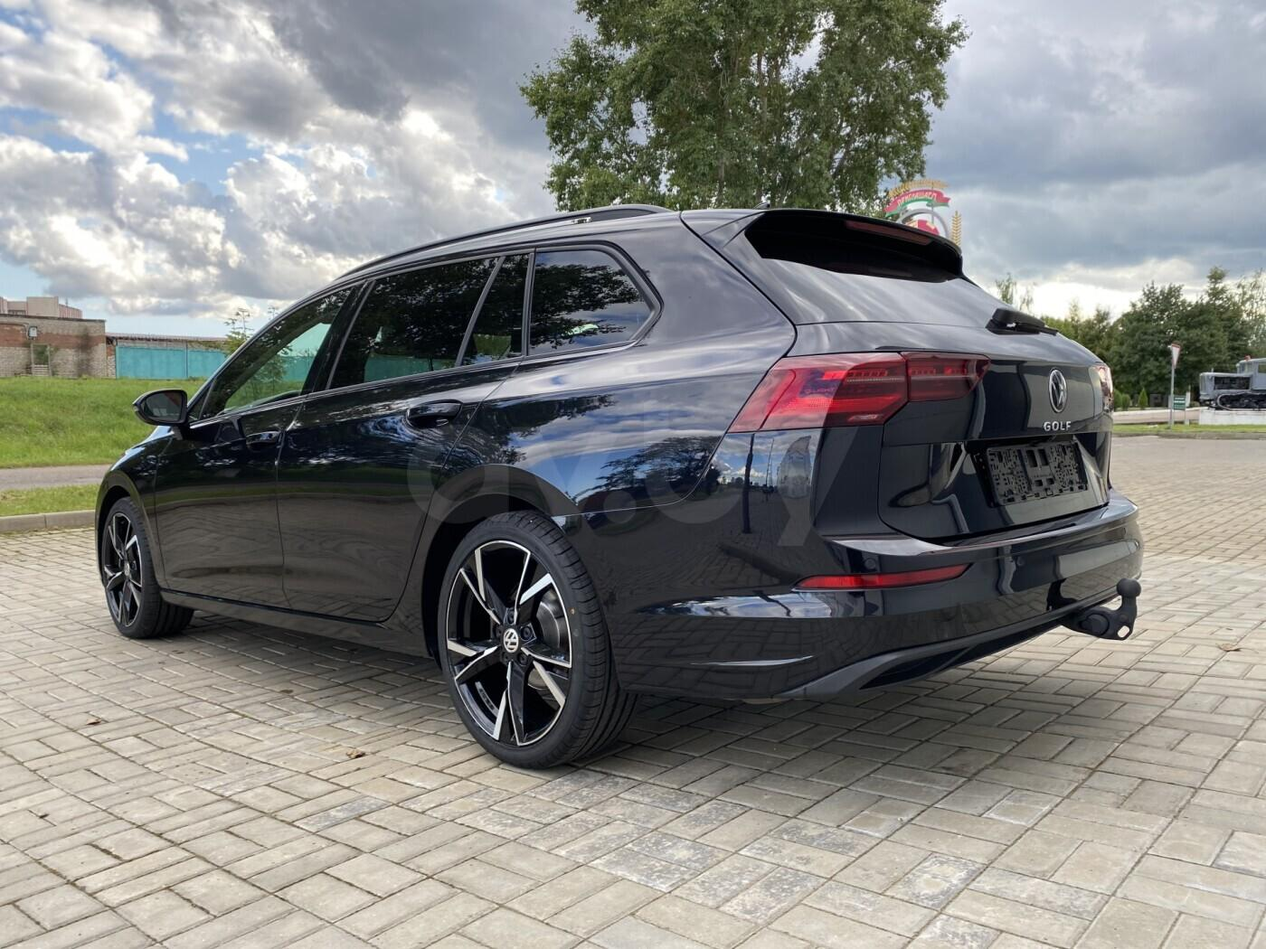Golf_2019: (90, 205, 1150, 770)
